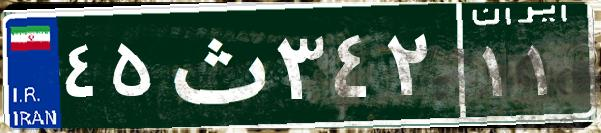1: (475, 38, 525, 113), (525, 38, 570, 115)
2: (385, 28, 445, 110)
3: (273, 28, 330, 110)
4: (330, 28, 385, 110), (57, 26, 110, 107)
5: (110, 28, 158, 105)
ث: (158, 15, 273, 115)
